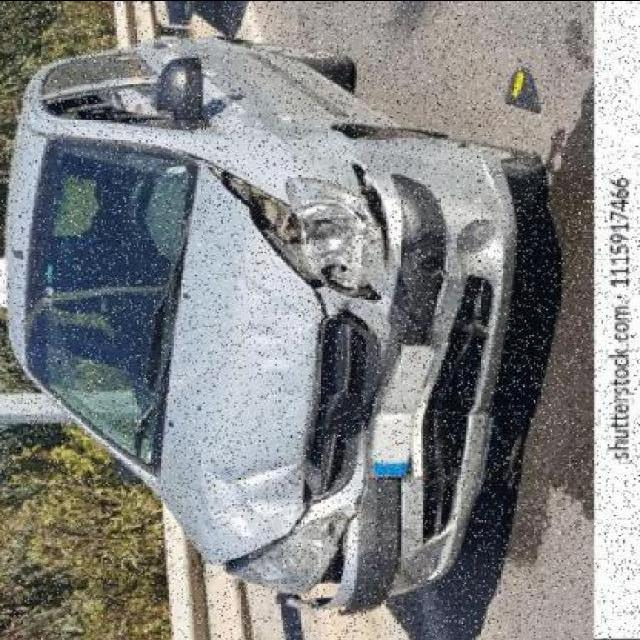bonnet-dent: (166, 170, 326, 569)
front-bumper-dent: (288, 147, 498, 623)
